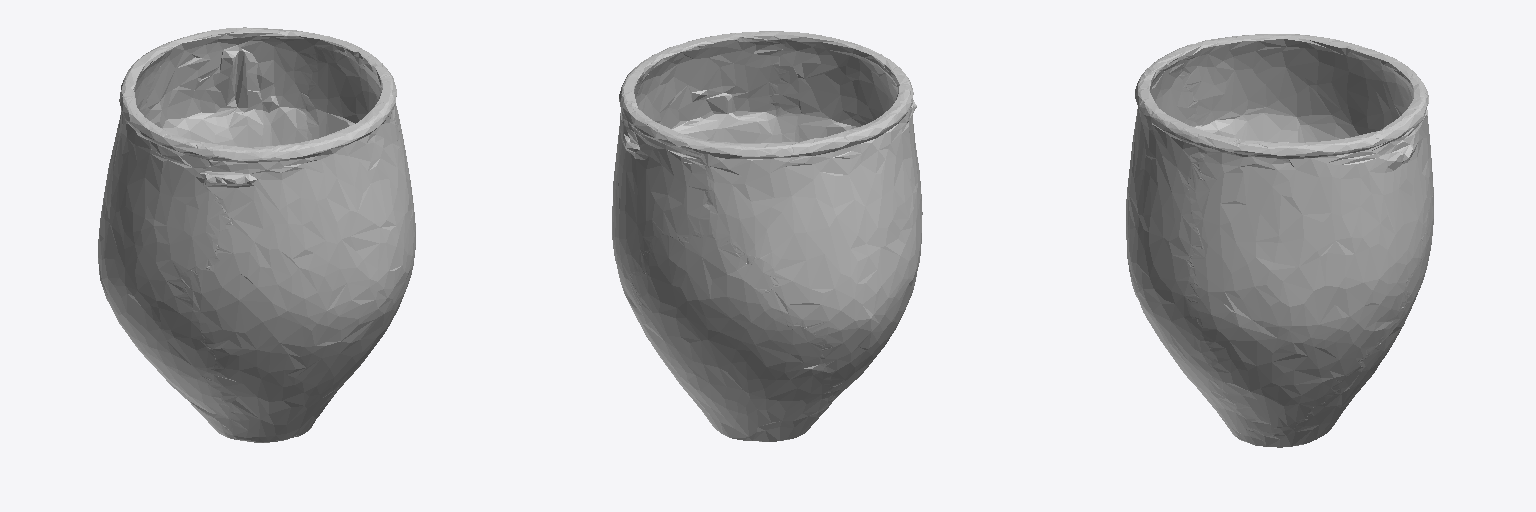
3 renders of one model, left to right at view 1: azimuth 30°, elevation 25°; view 2: azimuth 150°, elevation 25°; view 3: azimuth 270°, elevation 25°, orthographic.
Parts seen in each view (by area): view 1: fsdfsf:Mesh; view 2: fsdfsf:Mesh; view 3: fsdfsf:Mesh.
Part boxes in pixels (x1,y1,x2,y2): fsdfsf:Mesh: (98,27,415,442); fsdfsf:Mesh: (612,31,922,441); fsdfsf:Mesh: (1126,34,1433,447).
Size of the model in its own units: 383 by 454 by 376.